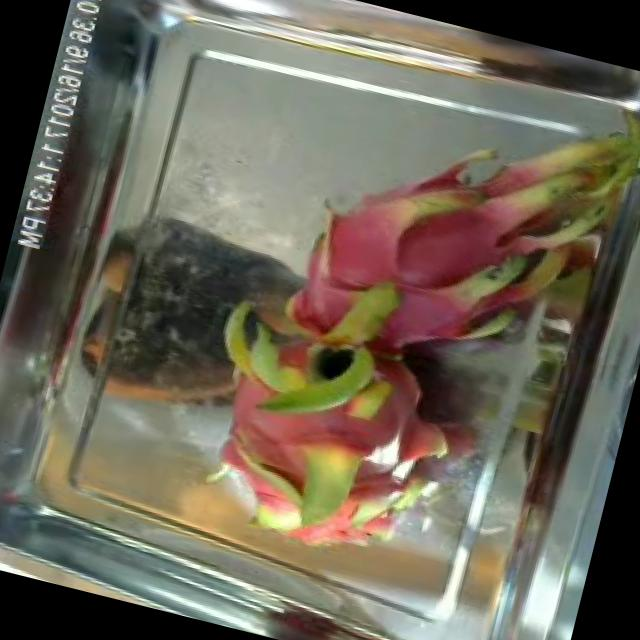Fruit: (321, 437, 426, 541)
